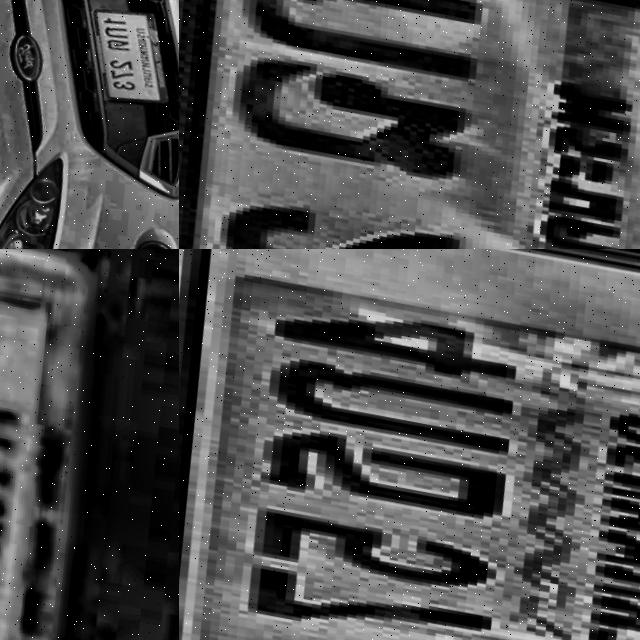license-plate: (179, 249, 640, 640), (179, 0, 640, 249), (0, 249, 127, 640), (67, 0, 179, 118)
